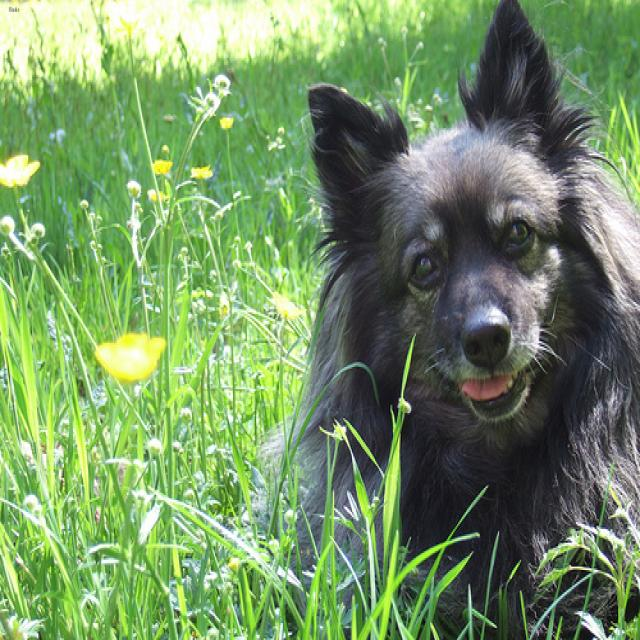dog-keeshond: (257, 2, 637, 637)
